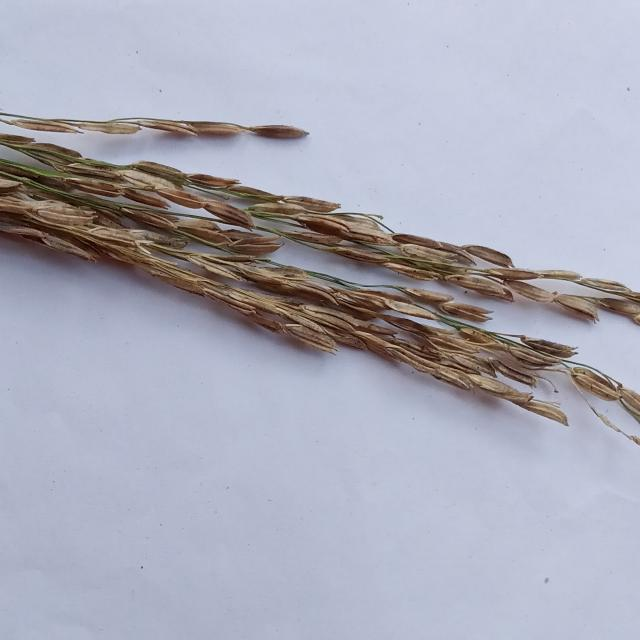Neck_Blast: (0, 188, 634, 429), (2, 120, 640, 337)
